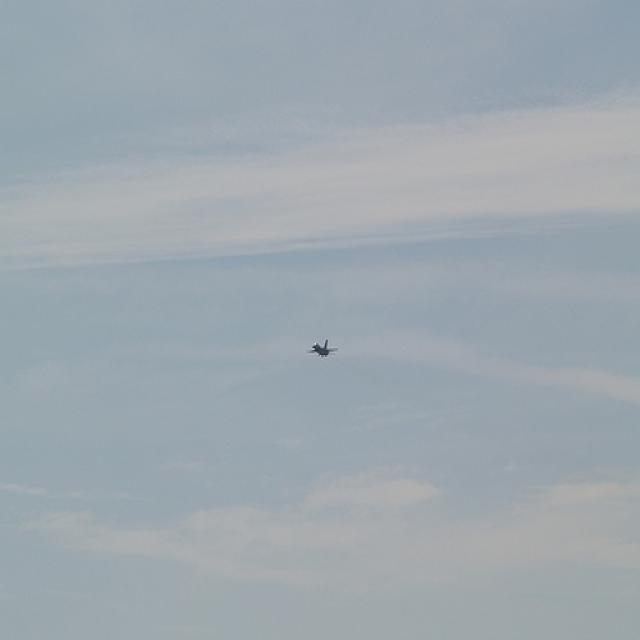aeroplane: (304, 335, 341, 365)
